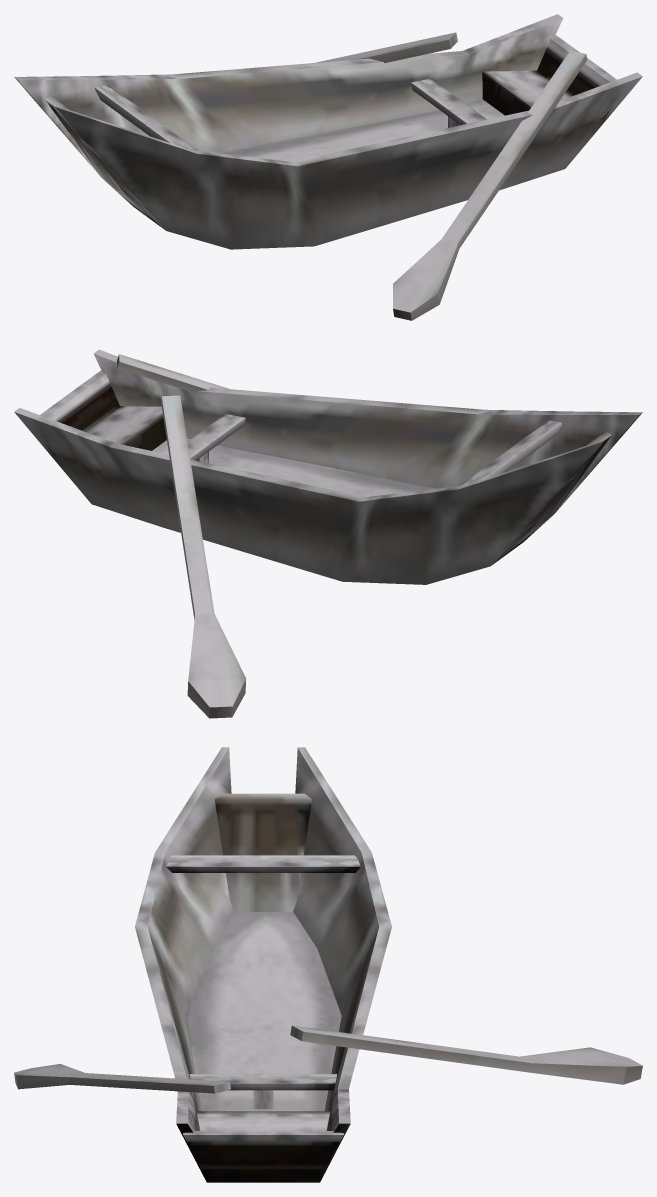
Rendered from general_obj_ferryboat01.glb.
The picture shows the model from 3 angles, top to bottom: view 1: azimuth 30°, elevation 25°; view 2: azimuth 150°, elevation 25°; view 3: azimuth 270°, elevation 25°; orthographic projection. The views are drawn at different scales.
Visible parts, largest first — view 1: Object10; view 2: Object10; view 3: Object10.
Boxes of the visible parts, x1,y1,x2,y2 form: Object10: [14, 14, 642, 320]; Object10: [14, 349, 642, 718]; Object10: [14, 747, 642, 1182].
Bounding box in the file's own units: 5.3 × 1.9 × 4.99.
Materials: 1 (1 with a texture image).
